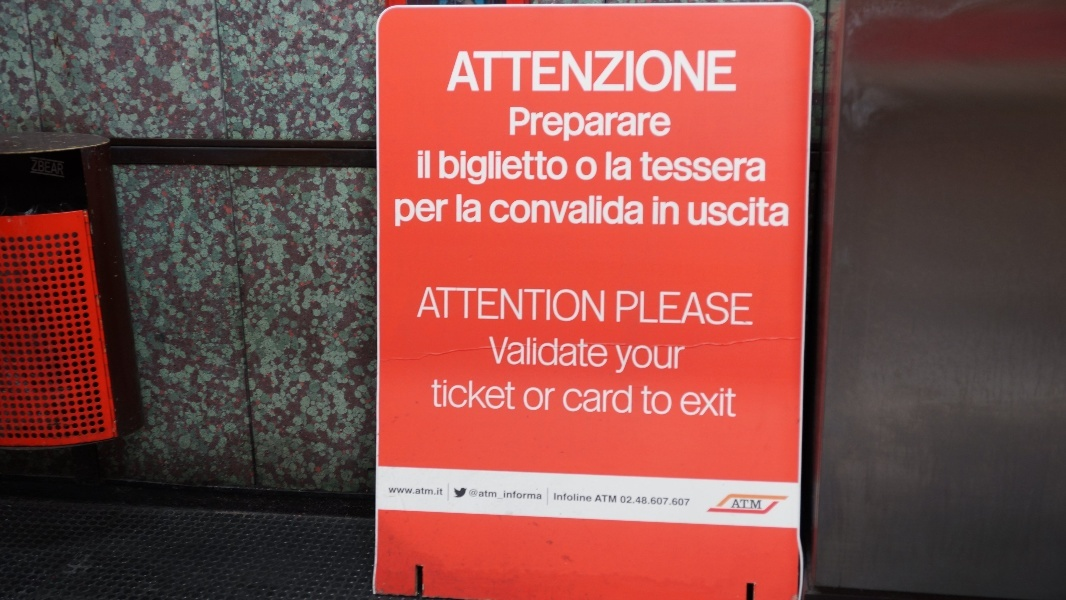text: (721, 50, 737, 93), (465, 50, 480, 93), (481, 50, 496, 93), (497, 50, 512, 93), (513, 50, 528, 93), (529, 50, 544, 93), (545, 50, 560, 93), (561, 50, 576, 93), (577, 50, 592, 93), (593, 50, 608, 93), (609, 50, 624, 93), (625, 50, 640, 93), (641, 50, 656, 93), (657, 50, 672, 93), (673, 50, 688, 93), (689, 50, 704, 93), (705, 50, 720, 93), (513, 107, 528, 144), (529, 107, 544, 144), (545, 107, 560, 144), (561, 107, 576, 144), (577, 107, 592, 144), (593, 107, 608, 144), (609, 107, 624, 144), (625, 107, 640, 144), (641, 107, 656, 144), (657, 107, 672, 144), (433, 286, 448, 323), (449, 286, 464, 323), (465, 286, 480, 323), (481, 286, 496, 323), (497, 286, 512, 323), (513, 286, 528, 323), (529, 286, 544, 323), (545, 286, 560, 323), (561, 286, 576, 323), (577, 286, 592, 323), (625, 290, 640, 327), (641, 290, 656, 327), (657, 290, 672, 327), (673, 290, 688, 327), (689, 290, 704, 327), (705, 290, 720, 327), (721, 290, 736, 327), (737, 290, 752, 327), (449, 151, 464, 186), (465, 151, 480, 186), (481, 151, 496, 186), (497, 151, 512, 186), (513, 151, 528, 186), (529, 151, 544, 186), (545, 151, 560, 186), (593, 286, 606, 323), (497, 336, 512, 368), (513, 336, 528, 368), (529, 336, 544, 368), (545, 336, 560, 368), (561, 336, 576, 368), (577, 336, 592, 368), (593, 336, 608, 368), (721, 388, 737, 418), (465, 194, 480, 225), (497, 195, 512, 226), (513, 195, 528, 226), (529, 195, 544, 226), (545, 195, 560, 226), (561, 195, 576, 226), (577, 195, 592, 226), (593, 195, 608, 226), (609, 195, 624, 226), (625, 195, 640, 226), (609, 151, 624, 182), (641, 151, 656, 182), (657, 151, 672, 182), (673, 151, 688, 182), (689, 151, 704, 182), (705, 151, 720, 182), (721, 151, 736, 182), (737, 151, 752, 182), (689, 197, 704, 228), (705, 197, 720, 228), (721, 197, 736, 228), (737, 197, 752, 228), (753, 197, 768, 228), (769, 197, 784, 228), (433, 379, 448, 410), (449, 379, 464, 410), (465, 379, 480, 410), (481, 379, 496, 410), (497, 379, 512, 410), (657, 385, 672, 416), (657, 196, 672, 226), (625, 344, 640, 374), (641, 344, 656, 374), (657, 344, 672, 374), (673, 344, 688, 374), (577, 385, 592, 415), (593, 385, 608, 415), (609, 385, 624, 415), (689, 388, 704, 418), (705, 388, 720, 418), (753, 151, 767, 182), (642, 385, 656, 416), (417, 151, 432, 179), (401, 199, 416, 227), (417, 199, 432, 227), (433, 199, 448, 227), (577, 156, 592, 183), (529, 386, 544, 412), (565, 385, 576, 415), (439, 151, 448, 186), (545, 386, 556, 412), (625, 151, 634, 182), (615, 344, 624, 374), (425, 286, 432, 323), (488, 336, 496, 368), (561, 151, 568, 186), (625, 385, 633, 415), (618, 290, 624, 327), (457, 194, 464, 225), (459, 50, 464, 93), (673, 196, 680, 226), (682, 388, 688, 418), (481, 489, 496, 501), (497, 489, 512, 501), (513, 489, 528, 501), (529, 489, 543, 501), (593, 156, 599, 183), (737, 499, 752, 509), (395, 199, 400, 227), (625, 496, 640, 505), (641, 496, 656, 505), (657, 496, 672, 505), (673, 496, 688, 505), (561, 493, 576, 502), (577, 493, 592, 502), (401, 487, 416, 496), (417, 487, 432, 496), (523, 386, 528, 412), (492, 195, 496, 226), (785, 197, 789, 228), (513, 379, 517, 410), (509, 107, 512, 144), (471, 489, 480, 501), (389, 487, 400, 496), (433, 487, 444, 496), (641, 195, 644, 226), (653, 196, 656, 226), (753, 499, 762, 509), (598, 495, 608, 502), (606, 151, 608, 182), (609, 495, 617, 502), (555, 493, 560, 502), (753, 290, 754, 327), (609, 336, 610, 368), (481, 194, 482, 225), (431, 379, 432, 410), (673, 385, 674, 416), (449, 199, 450, 227), (621, 496, 624, 505), (734, 499, 736, 509), (689, 496, 691, 505)
